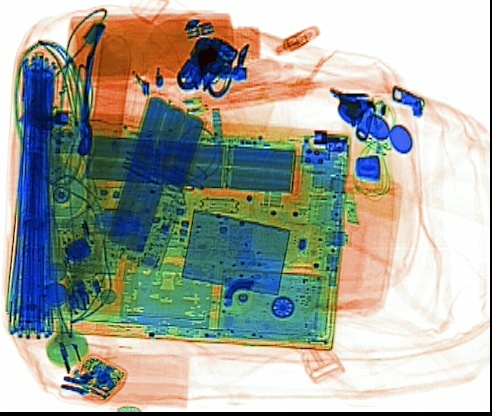powerbank: (100, 89, 208, 273)
